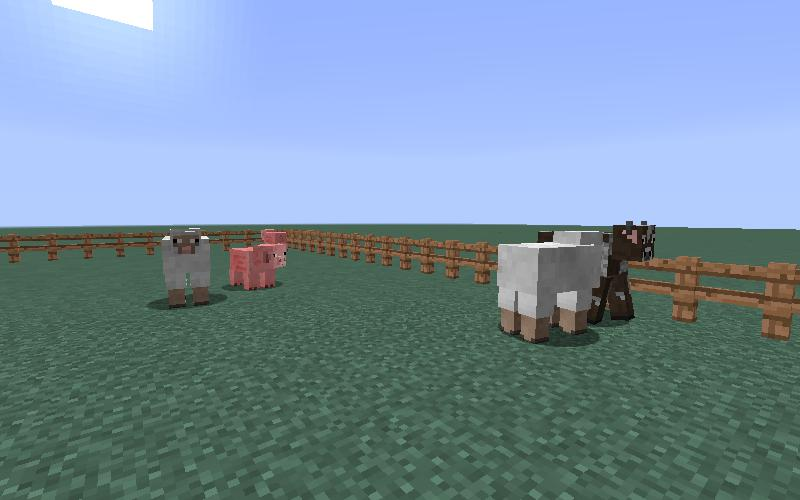cow: (606, 221, 657, 320)
pig: (227, 242, 288, 291)
sheep: (495, 230, 605, 345), (158, 228, 214, 308)
